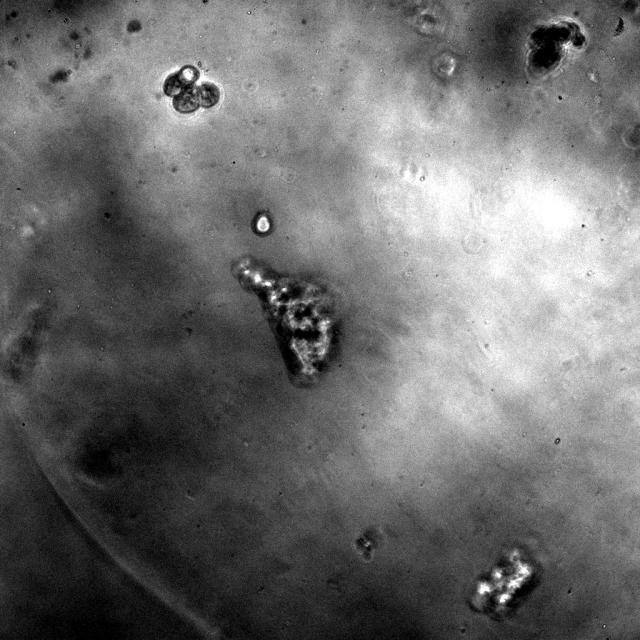organoid: (234, 256, 339, 386), (468, 549, 538, 621), (526, 19, 587, 78), (163, 65, 220, 112), (251, 210, 272, 235)
